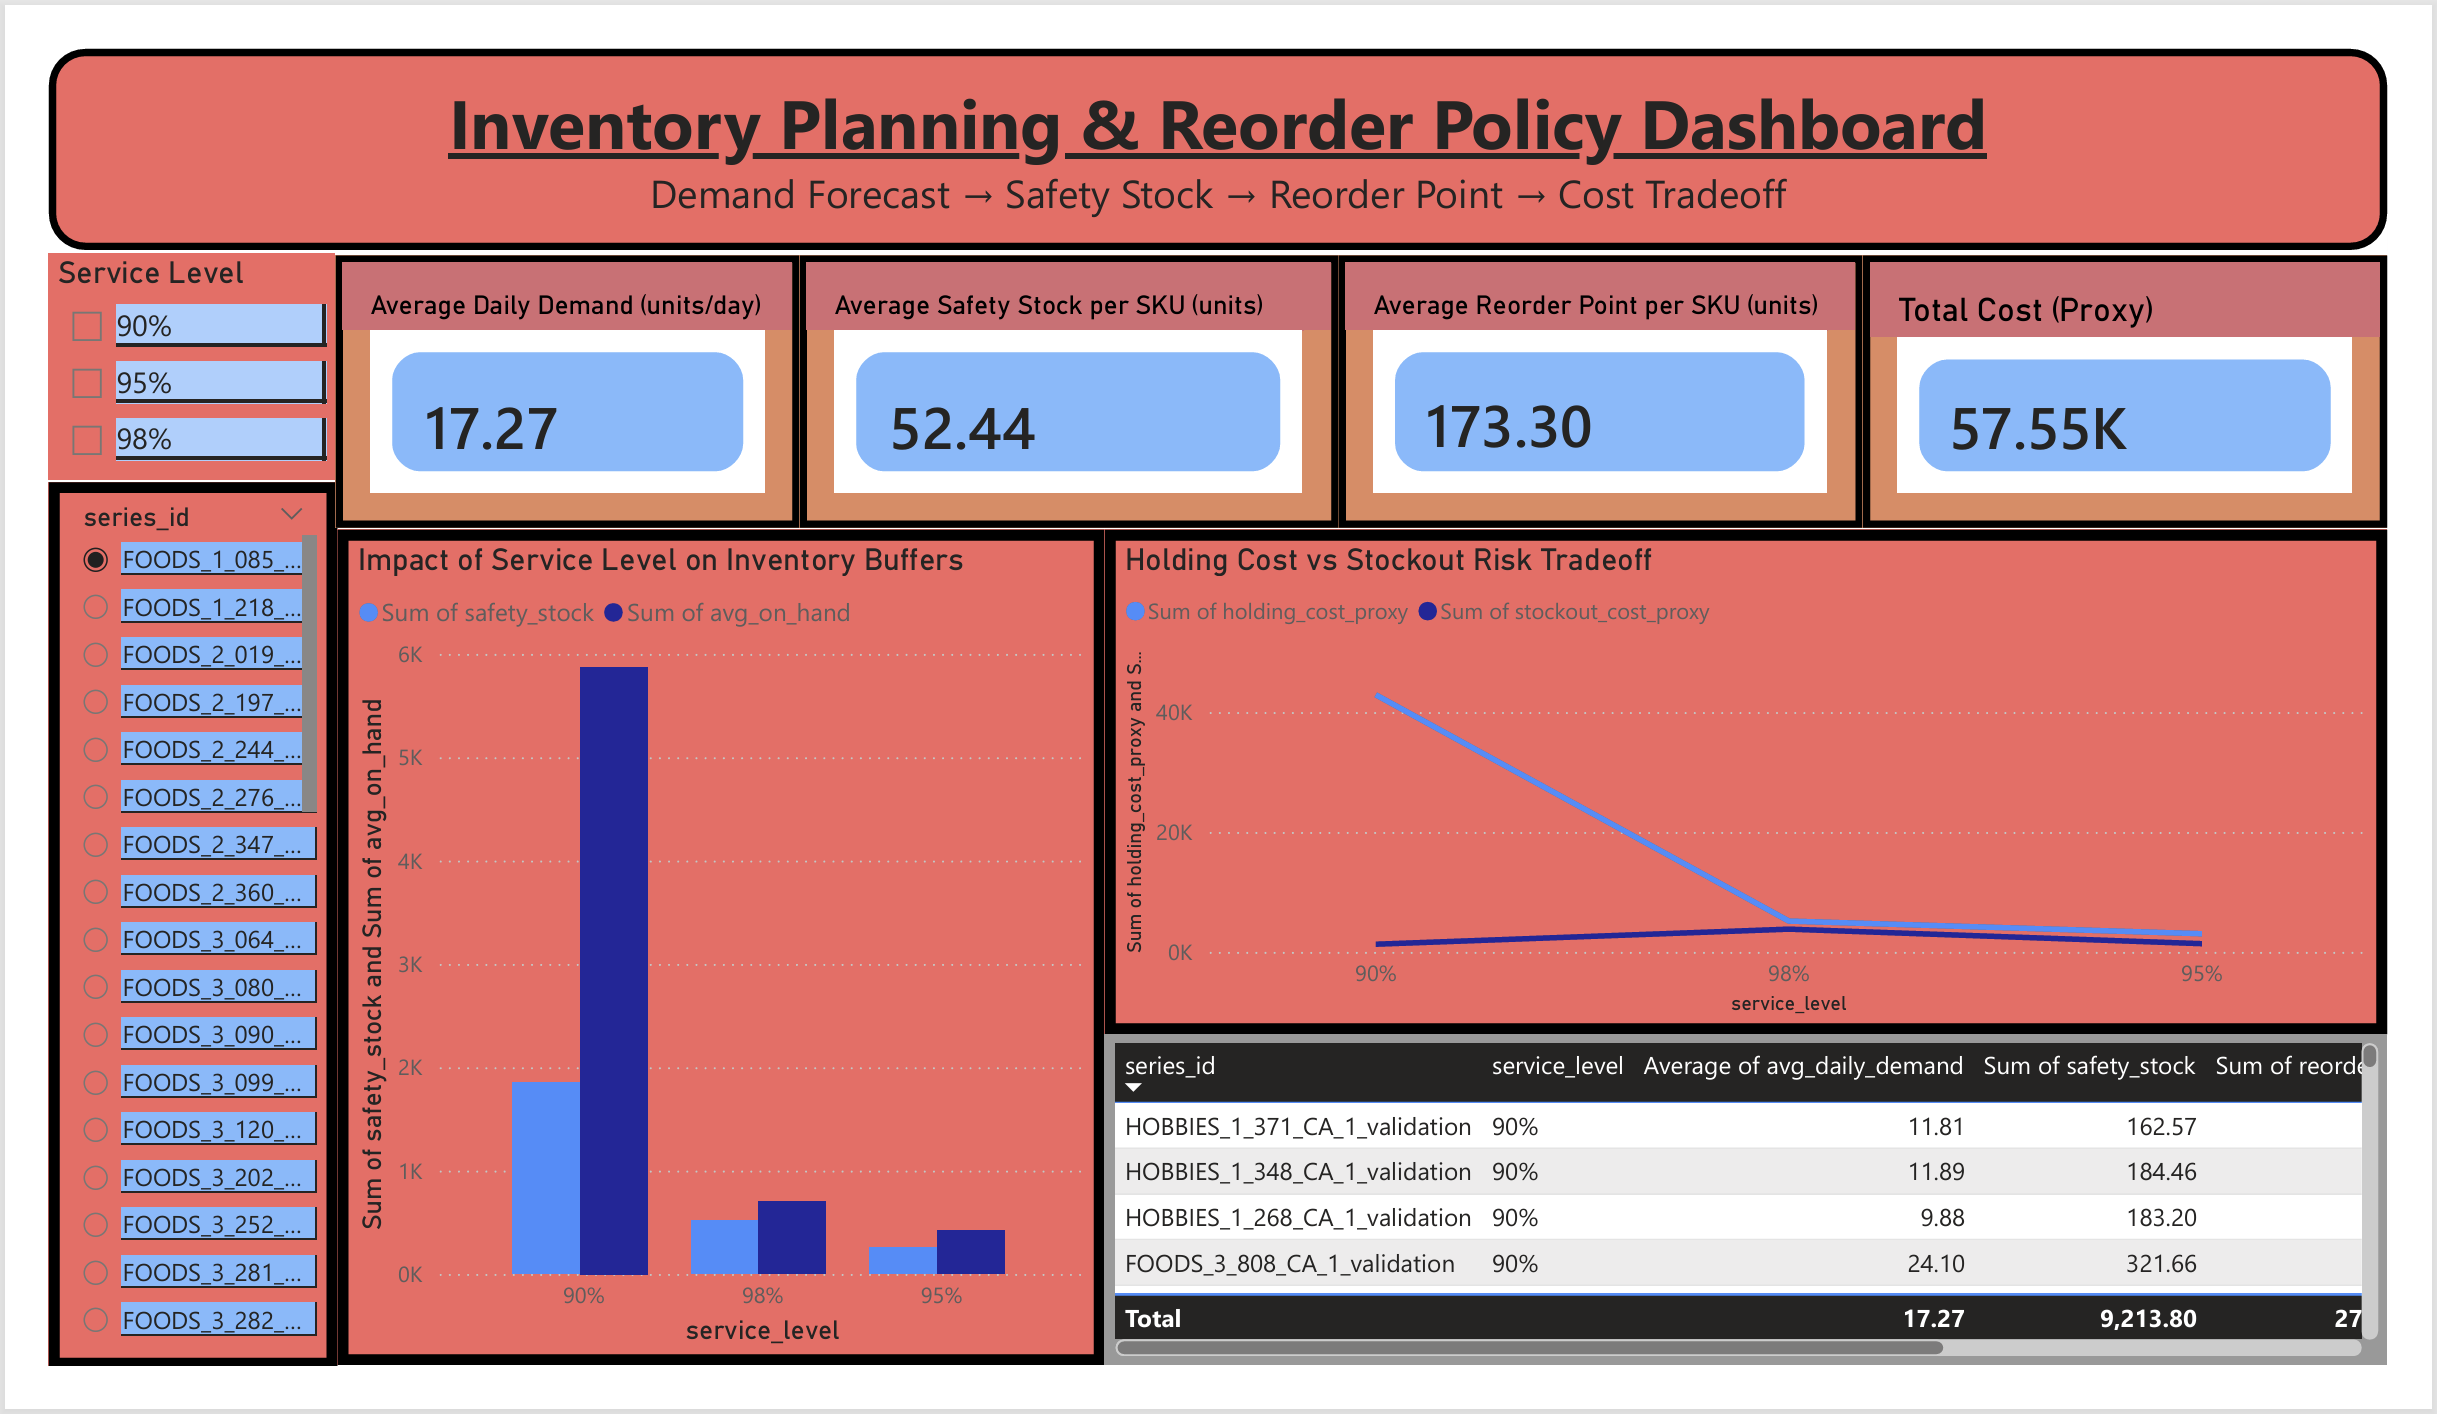

This screenshot's page, from the dashboard's own definition file:
{"tool":"powerbi","page":{"name":"Page 1","canvas":[1280,720],"ordinal":0},"visuals":[{"type":"textbox","box":[0,0,1280,110],"z":0},{"type":"slicer","fields":{"Values":["inventory_params_all_service_levels.series_id"]},"box":[0,237,157.5,484.8],"z":1000},{"type":"slicer","title":"Service Level","fields":{"Values":["recommended_reorder_policy.service_level"]},"box":[0,112.4,157.1,123.3],"z":2000},{"type":"cardVisual","title":"Average Daily Demand (units/day)","fields":{"Data":["Avg(forecast_accuracy_by_sku.avg_daily_demand)"]},"box":[156.9,112.9,254.5,149.2],"z":3000},{"type":"cardVisual","title":"Average Safety Stock per SKU (units)","fields":{"Data":["Avg(recommended_reorder_policy.safety_stock)"]},"box":[411.4,112.9,294.6,149.2],"z":4000},{"type":"cardVisual","title":"Average Reorder Point per SKU (units)","fields":{"Data":["Avg(recommended_reorder_policy.reorder_point)"]},"box":[706,112.9,287,149.2],"z":5000},{"type":"cardVisual","title":"Total Cost (Proxy)","fields":{"Data":["Sum(recommended_reorder_policy.total_cost_proxy)"]},"box":[992.6,112.6,287.4,149],"z":6000},{"type":"clusteredColumnChart","title":"Impact of Service Level on Inventory Buffers","fields":{"Category":["recommended_reorder_policy.service_level"],"Y":["Sum(recommended_reorder_policy.safety_stock)","Sum(recommended_reorder_policy.avg_on_hand)"]},"box":[157.5,263,420.5,457.3],"z":7000},{"type":"lineChart","title":"Holding Cost vs Stockout Risk Tradeoff","fields":{"Category":["recommended_reorder_policy.service_level"],"Y":["Sum(recommended_reorder_policy.holding_cost_proxy)","Sum(recommended_reorder_policy.stockout_cost_proxy)"]},"box":[578.4,262.8,701.6,275.7],"z":8000},{"type":"tableEx","fields":{"Values":["recommended_reorder_policy.series_id","recommended_reorder_policy.service_level","Avg(inventory_params_all_service_levels.avg_daily_demand)","Sum(inventory_params_all_service_levels.safety_stock)","Sum(inventory_params_all_service_levels.reorder_point)","Sum(recommended_reorder_policy.stockout_units)","Sum(recommended_reorder_policy.total_cost_proxy)"]},"box":[578.4,538.5,701.6,181.9],"z":9000}]}

Visuals, with their boxes in screenshot pixels (x1, y1, x2, y2):
textbox: {"left": 44, "top": 44, "right": 2363, "bottom": 244}
slicer - inventory_params_all_service_levels.series_id: {"left": 44, "top": 474, "right": 330, "bottom": 1352}
"Service Level" slicer: {"left": 44, "top": 248, "right": 329, "bottom": 471}
"Average Daily Demand (units/day)" cardVisual: {"left": 329, "top": 249, "right": 789, "bottom": 519}
"Average Safety Stock per SKU (units)" cardVisual: {"left": 789, "top": 249, "right": 1323, "bottom": 519}
"Average Reorder Point per SKU (units)" cardVisual: {"left": 1323, "top": 249, "right": 1843, "bottom": 519}
"Total Cost (Proxy)" cardVisual: {"left": 1842, "top": 248, "right": 2363, "bottom": 518}
"Impact of Service Level on Inventory Buffers" clusteredColumnChart: {"left": 330, "top": 521, "right": 1091, "bottom": 1349}
"Holding Cost vs Stockout Risk Tradeoff" lineChart: {"left": 1092, "top": 520, "right": 2363, "bottom": 1020}
tableEx - recommended_reorder_policy.series_id x recommended_reorder_policy.service_level: {"left": 1092, "top": 1020, "right": 2363, "bottom": 1349}
